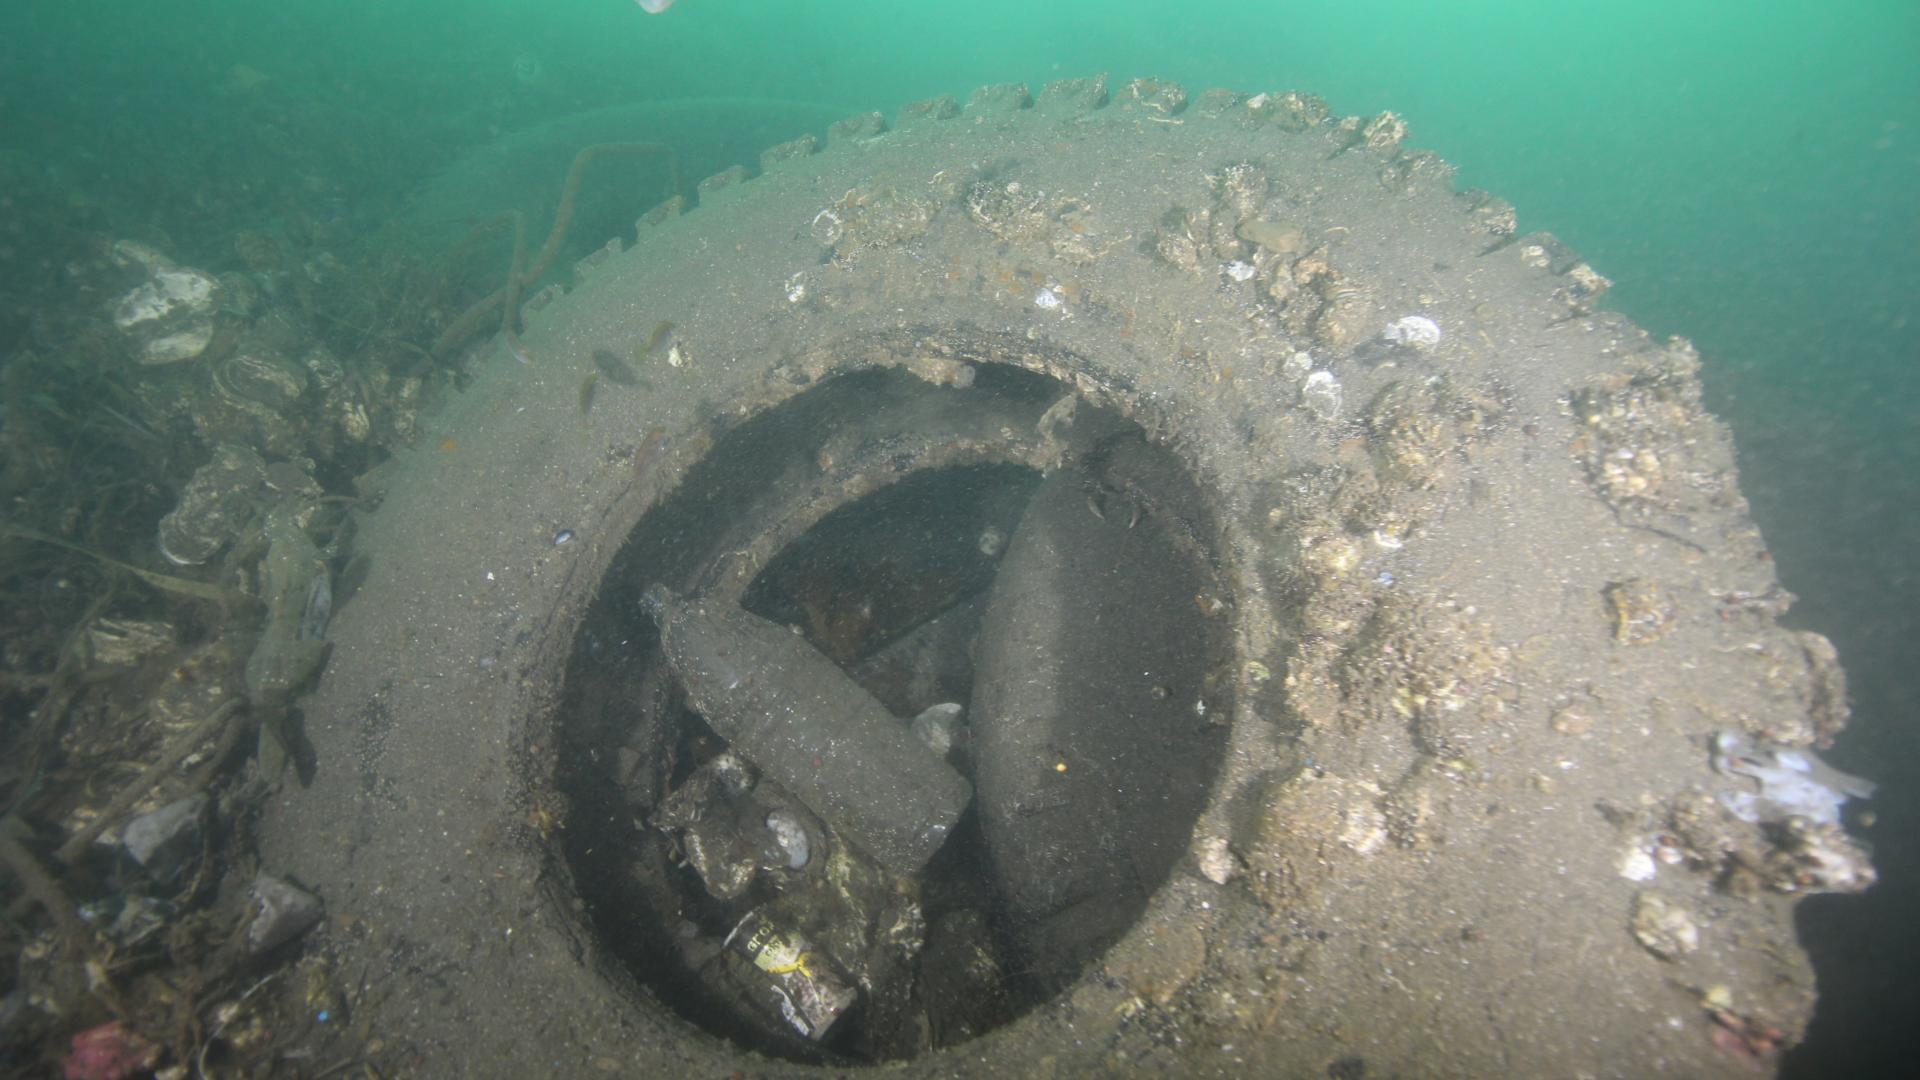tire: (327, 79, 1817, 1080)
